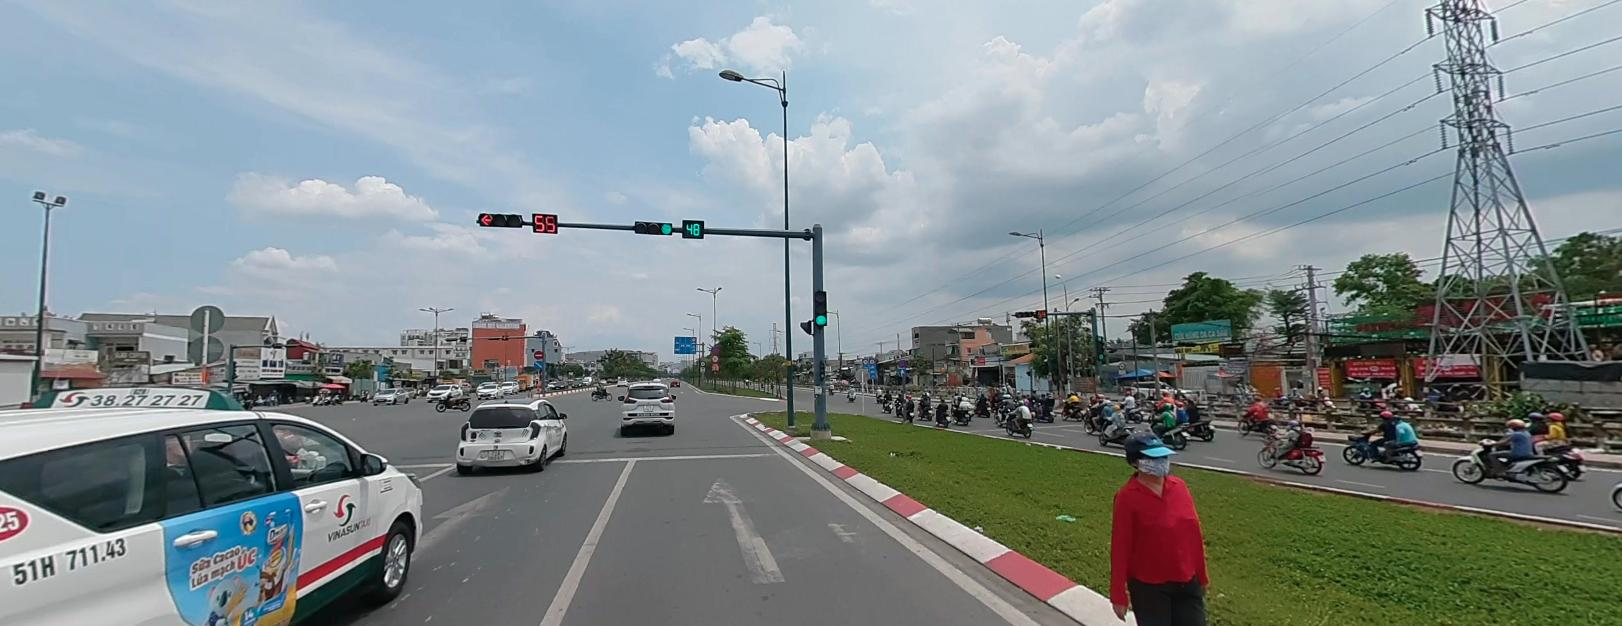Cam dung va do: (897, 358, 904, 365)
Cam nguoc chieu: (533, 349, 542, 358)
Hieu lenh: (533, 359, 543, 368)
